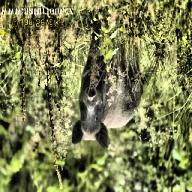boar: (71, 23, 152, 149)
